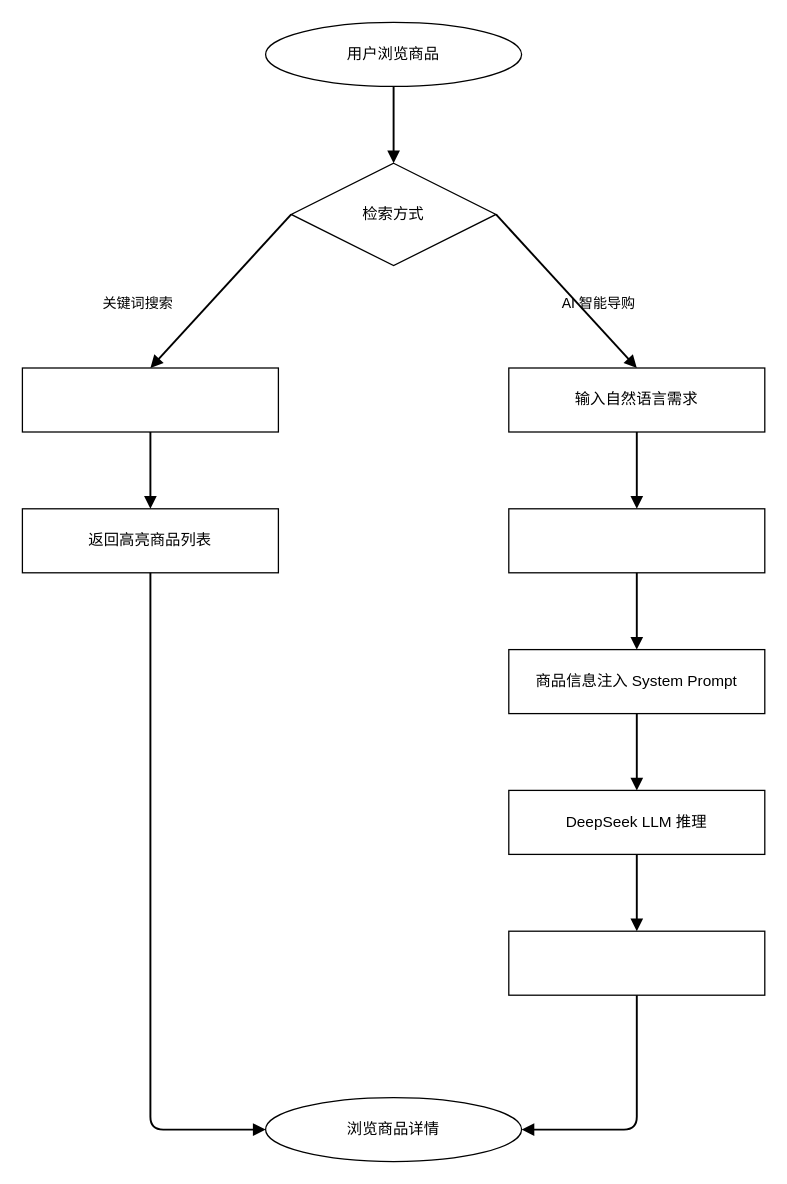
This 787x1184 diagram has some shape labels left out. Each missing label, with the centre of its shape:
"Elasticsearch BoolQuery 复合查询" goes at (149,399).
"PgVector 相似度检索 Top3" goes at (636,540).
"返回推荐文本 + 商品卡片" goes at (636,962).
